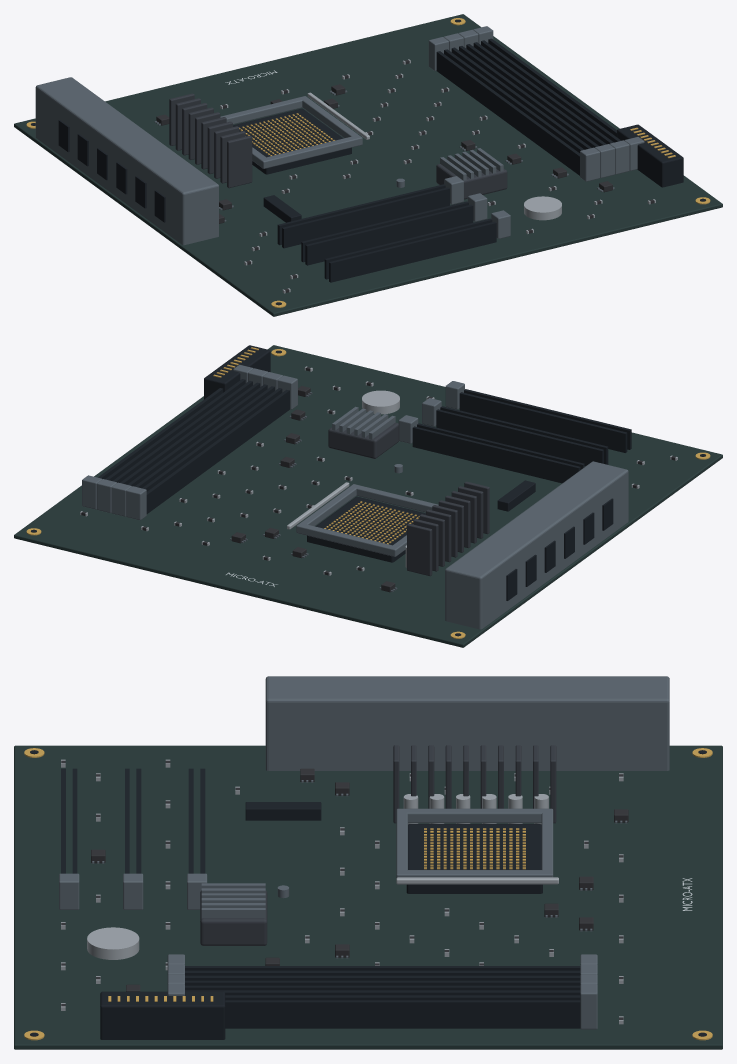
The model's file is motherboard-micro-atx.glb.
The picture shows the model from 3 angles, top to bottom: view 1: azimuth 30°, elevation 25°; view 2: azimuth 150°, elevation 25°; view 3: azimuth 270°, elevation 25°; orthographic projection. The views are drawn at different scales.
Visible parts, largest first — view 1: Motherboard_PCB_Deep_Slate, Motherboard_Plastic_Black, Motherboard_Metal_Dark_Steel, Motherboard_Paint_Graphite, Motherboard_Metal_Aluminum, Motherboard_Contact_Gold, Motherboard_Chip_Ceramic; view 2: Motherboard_PCB_Deep_Slate, Motherboard_Plastic_Black, Motherboard_Metal_Dark_Steel, Motherboard_Paint_Graphite, Motherboard_Contact_Gold, Motherboard_Metal_Aluminum, Motherboard_Chip_Ceramic; view 3: Motherboard_PCB_Deep_Slate, Motherboard_Metal_Dark_Steel, Motherboard_Plastic_Black, Motherboard_Paint_Graphite, Motherboard_Metal_Aluminum, Motherboard_Contact_Gold, Motherboard_Chip_Ceramic.
Part boxes in pixels (box(x1,y1,x2,y2)): Motherboard_PCB_Deep_Slate: box(14, 14, 722, 316); Motherboard_Plastic_Black: box(31, 19, 705, 305); Motherboard_Metal_Dark_Steel: box(35, 26, 644, 245); Motherboard_Paint_Graphite: box(169, 93, 507, 199); Motherboard_Metal_Aluminum: box(220, 59, 655, 293); Motherboard_Contact_Gold: box(26, 18, 710, 307); Motherboard_Chip_Ceramic: box(156, 60, 654, 292); Motherboard_PCB_Deep_Slate: box(14, 345, 722, 647); Motherboard_Plastic_Black: box(31, 345, 705, 636); Motherboard_Metal_Dark_Steel: box(82, 364, 628, 629); Motherboard_Paint_Graphite: box(328, 422, 489, 576); Motherboard_Contact_Gold: box(26, 347, 710, 638); Motherboard_Metal_Aluminum: box(80, 366, 677, 575); Motherboard_Chip_Ceramic: box(81, 367, 675, 592); Motherboard_PCB_Deep_Slate: box(14, 745, 722, 1049); Motherboard_Metal_Dark_Steel: box(59, 676, 669, 1029); Motherboard_Plastic_Black: box(30, 750, 706, 1039); Motherboard_Paint_Graphite: box(200, 745, 556, 945); Motherboard_Metal_Aluminum: box(61, 759, 623, 1024); Motherboard_Contact_Gold: box(24, 748, 712, 1040); Motherboard_Chip_Ceramic: box(61, 760, 628, 1019).
Size of the model in its own units: 0.244 by 0.029 by 0.244.
